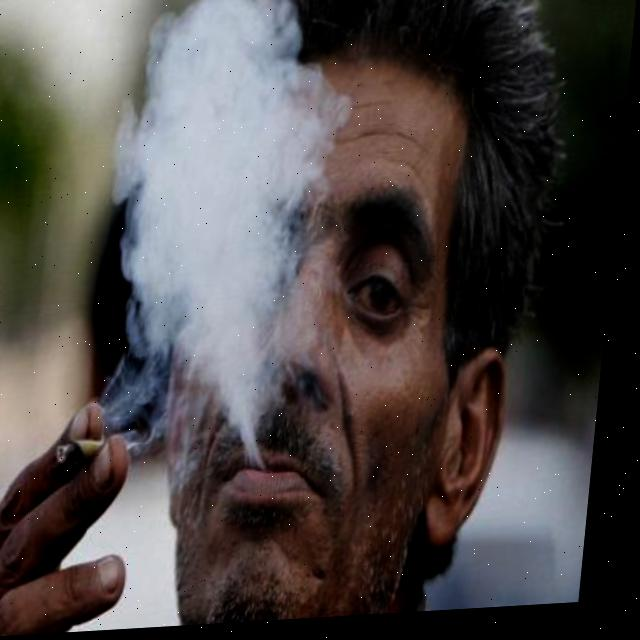cigarette: (63, 436, 109, 468)
